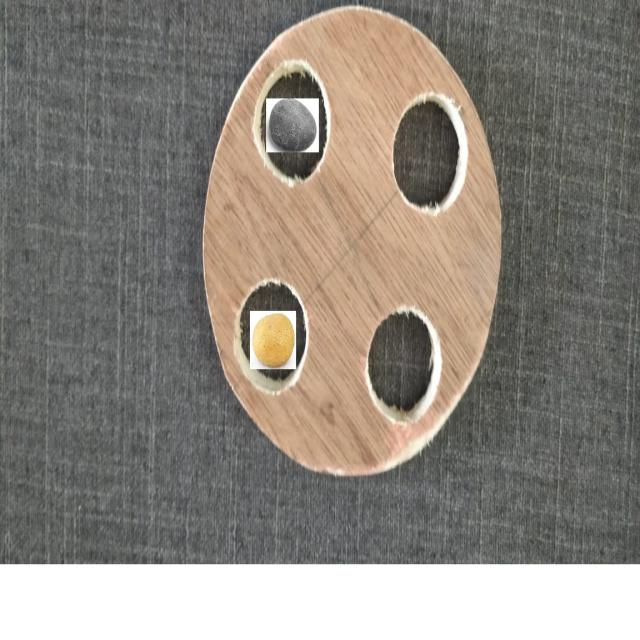potato: (253, 314, 295, 368)
